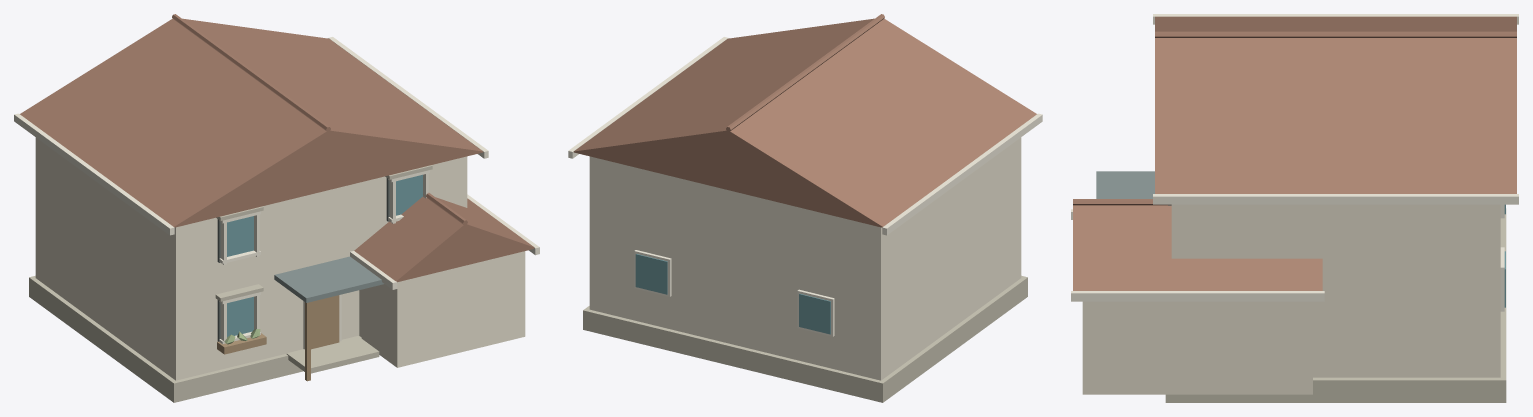
3 views of the same model, side by side, from view 1: azimuth 30°, elevation 25°; view 2: azimuth 150°, elevation 25°; view 3: azimuth 270°, elevation 25° (orthographic). The views are drawn at different scales.
Bounding box in the file's own units: 11.72 × 8.11 × 11.57.
